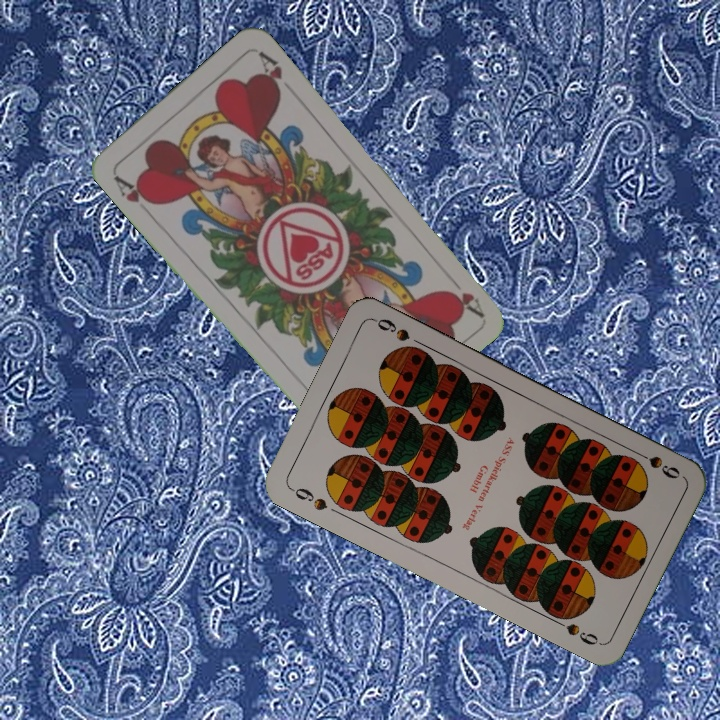HA: (441, 268, 486, 318), (109, 171, 160, 208)
S9: (629, 446, 683, 482), (286, 483, 330, 514)
